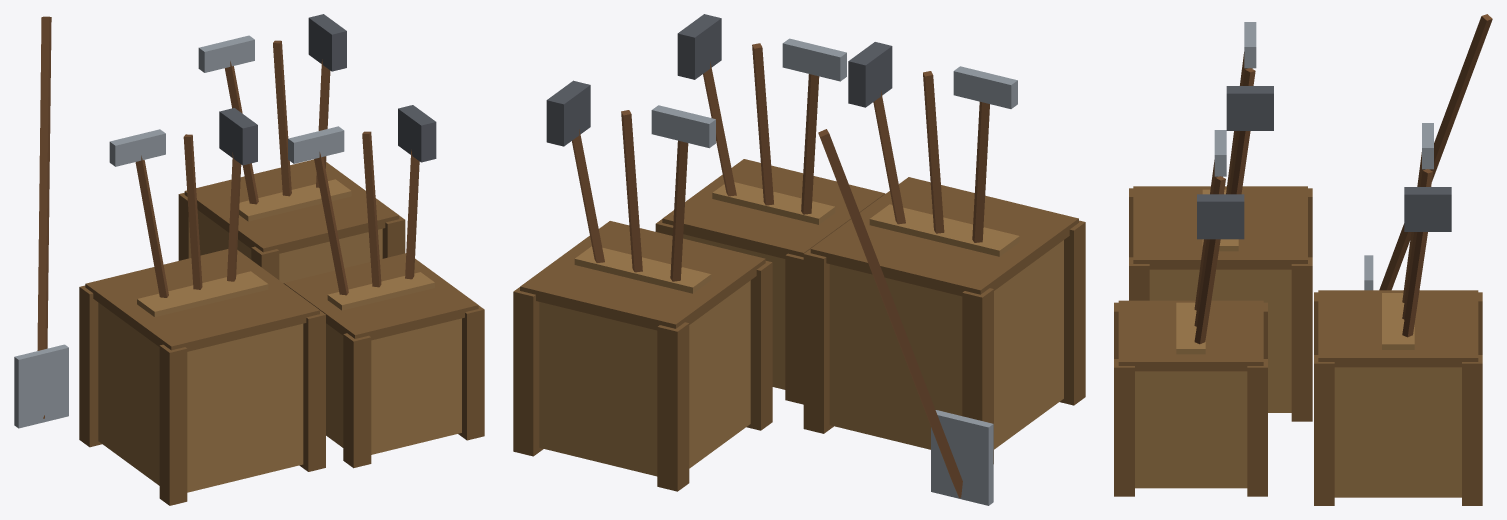
File: pile_tools_2.glb
The picture shows the model from 3 angles, left to right: view 1: azimuth 30°, elevation 25°; view 2: azimuth 150°, elevation 25°; view 3: azimuth 270°, elevation 25°; orthographic projection. The views are drawn at different scales.
Visible parts, largest first — view 1: pile_tools_2; view 2: pile_tools_2; view 3: pile_tools_2.
Boxes of the visible parts, x1,y1,x2,y2 form: pile_tools_2: [14, 14, 484, 505]; pile_tools_2: [513, 14, 1085, 505]; pile_tools_2: [1114, 14, 1492, 505].
Size of the model in its own units: 1.44 by 1.32 by 1.28.
